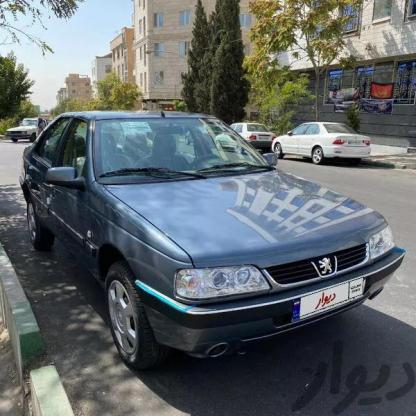Car: (20, 112, 394, 376), (277, 118, 372, 170), (213, 120, 271, 150), (0, 111, 42, 136)
